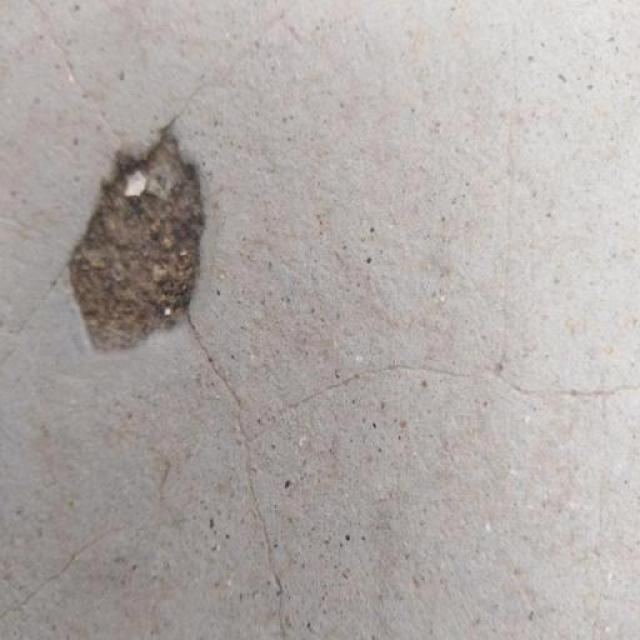D10: (68, 128, 205, 352)
